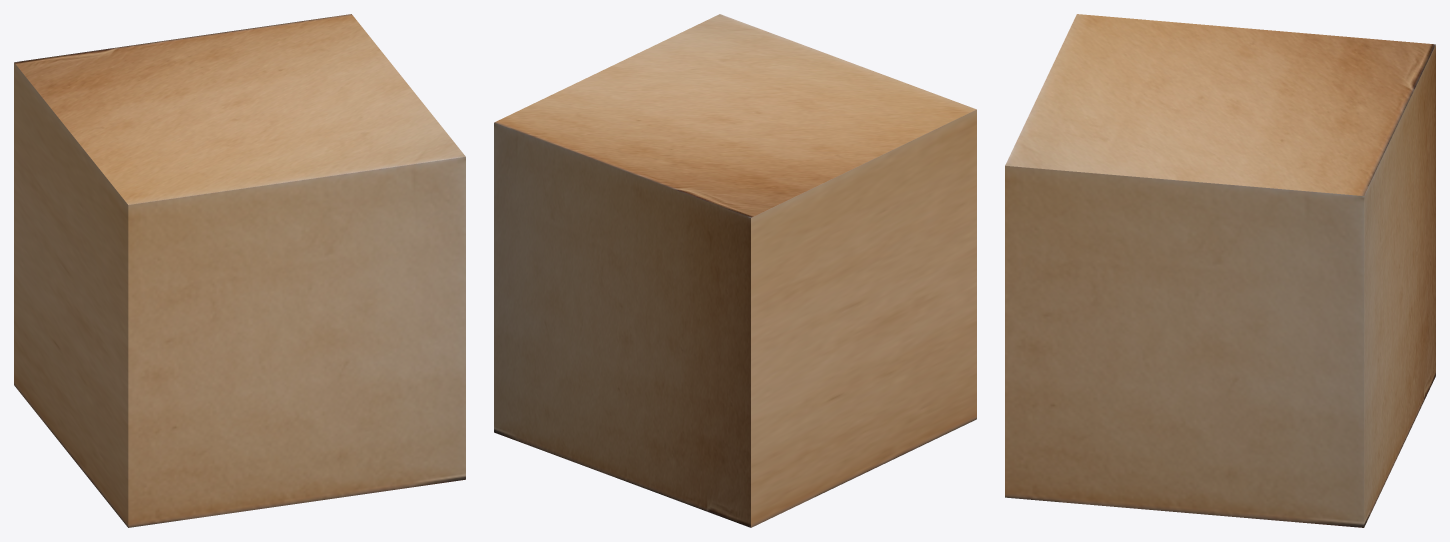
3 views of the same model, side by side, from view 1: azimuth 30°, elevation 25°; view 2: azimuth 150°, elevation 25°; view 3: azimuth 270°, elevation 25° (orthographic). The views are drawn at different scales.
Parts seen in each view (by area): view 1: Cube.029; view 2: Cube.029; view 3: Cube.029.
Part boxes in pixels (x1,y1,x2,y2): Cube.029: (14, 14, 465, 527); Cube.029: (494, 14, 976, 527); Cube.029: (1005, 14, 1435, 527).
Size of the model in its own units: 58.73 by 49.91 by 58.73.
Materials: 1 (1 with a texture image).
